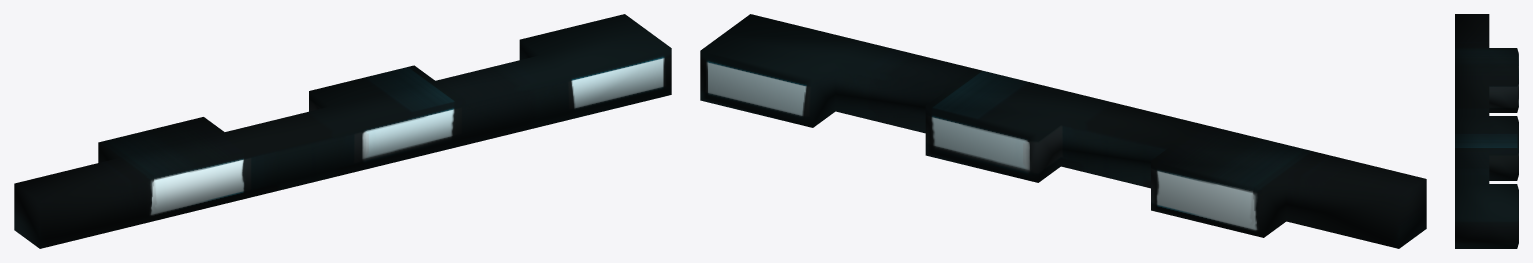
Rendered from rail2.fbx.
3 views of the same model, side by side, from view 1: azimuth 30°, elevation 25°; view 2: azimuth 150°, elevation 25°; view 3: azimuth 270°, elevation 25° (orthographic). The views are drawn at different scales.
Visible parts, largest first — view 1: pCube5; view 2: pCube5; view 3: pCube5.
Boxes of the visible parts, left/top/right/bottom form: pCube5: left=14, top=14, right=671, bottom=248; pCube5: left=700, top=14, right=1426, bottom=248; pCube5: left=1455, top=14, right=1518, bottom=248.
Bounding box in the file's own units: 28.29 × 1.99 × 3.74.
1 material, 1 textured.
